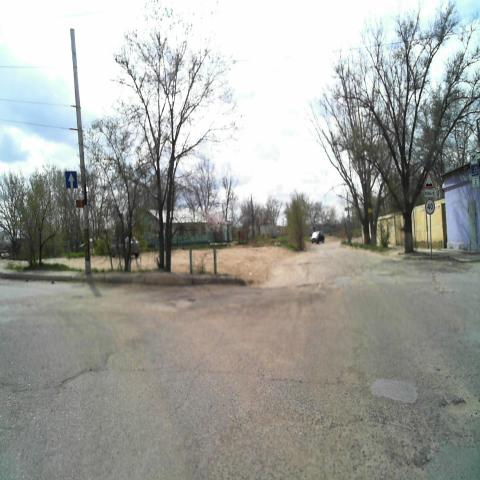1_16: (424, 170, 434, 189)
